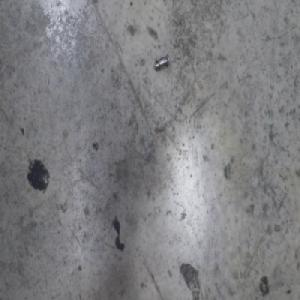Bolt: (154, 53, 169, 72)
